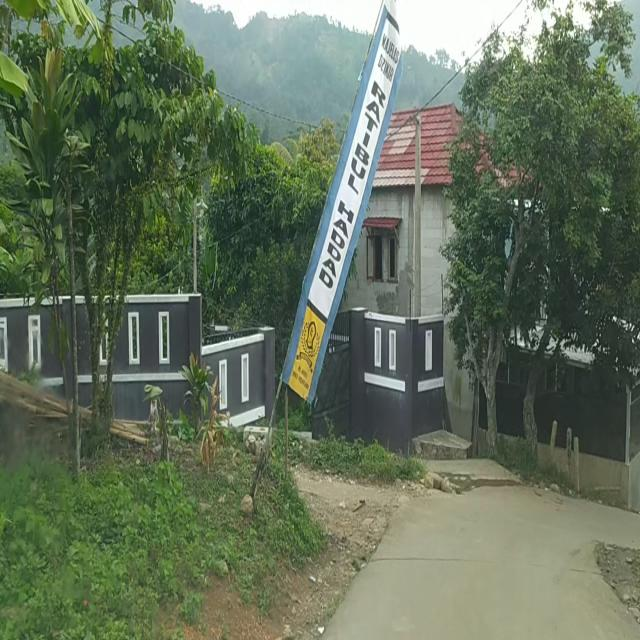Sewer Cover: (374, 547, 602, 577)
